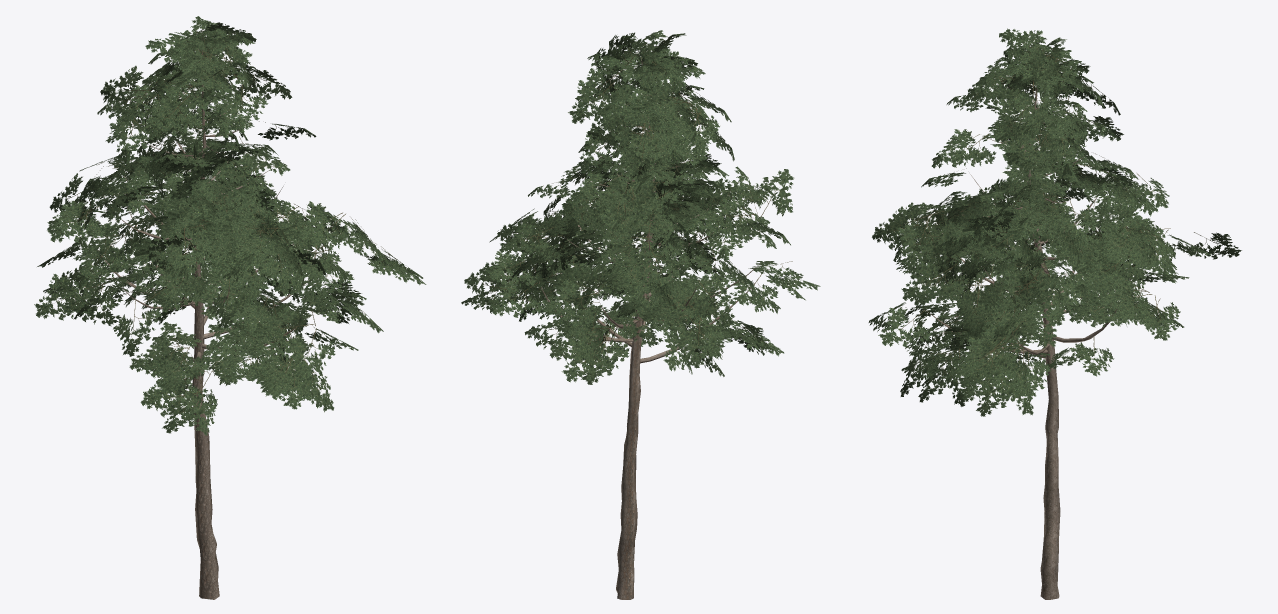
Rendered from maple-b.glb.
The picture shows the model from 3 angles, left to right: view 1: azimuth 30°, elevation 25°; view 2: azimuth 150°, elevation 25°; view 3: azimuth 270°, elevation 25°; orthographic projection. The views are drawn at different scales.
Visible parts, largest first — view 1: maple-b; view 2: maple-b; view 3: maple-b.
Part boxes in pixels (x1,y1,x2,y2): maple-b: (34,16,426,599); maple-b: (461,30,820,599); maple-b: (868,28,1241,599).
Size of the model in its own units: 10.81 by 17 by 11.35.
Materials: 2 (2 with a texture image).
